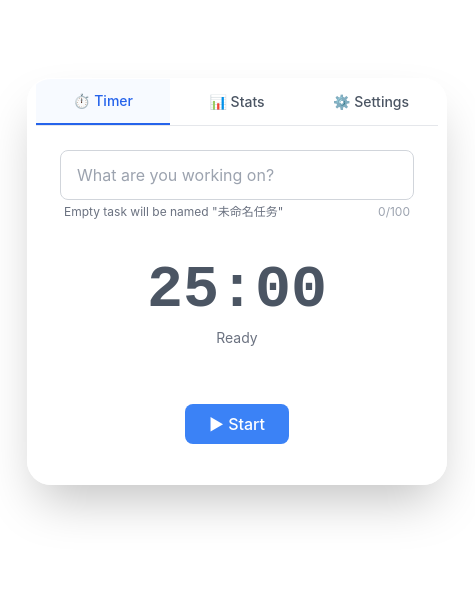
it: App › should switch to statistics view
Click the button "📊 Stats".
click(237, 102)  # box 170,78 -> 304,124
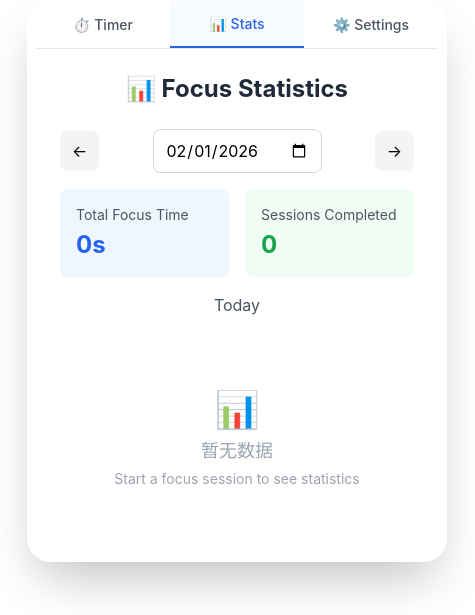
expect the element with class "statistics-container" is shown: met
